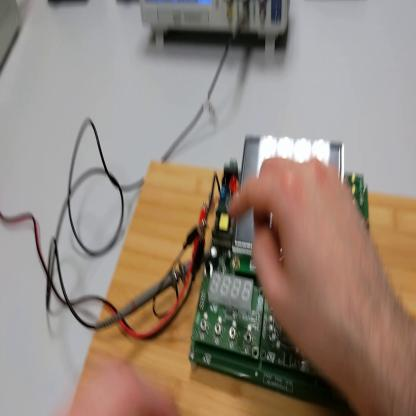hand: (234, 154, 388, 387), (61, 362, 181, 415)
low voltage board: (188, 126, 373, 416)
oscilloscope: (141, 3, 291, 54)
oscilloscope probe tip: (95, 248, 219, 335)
power supply: (2, 2, 20, 71)
socket: (49, 1, 90, 8), (118, 2, 140, 6)
working area: (73, 162, 416, 416)
